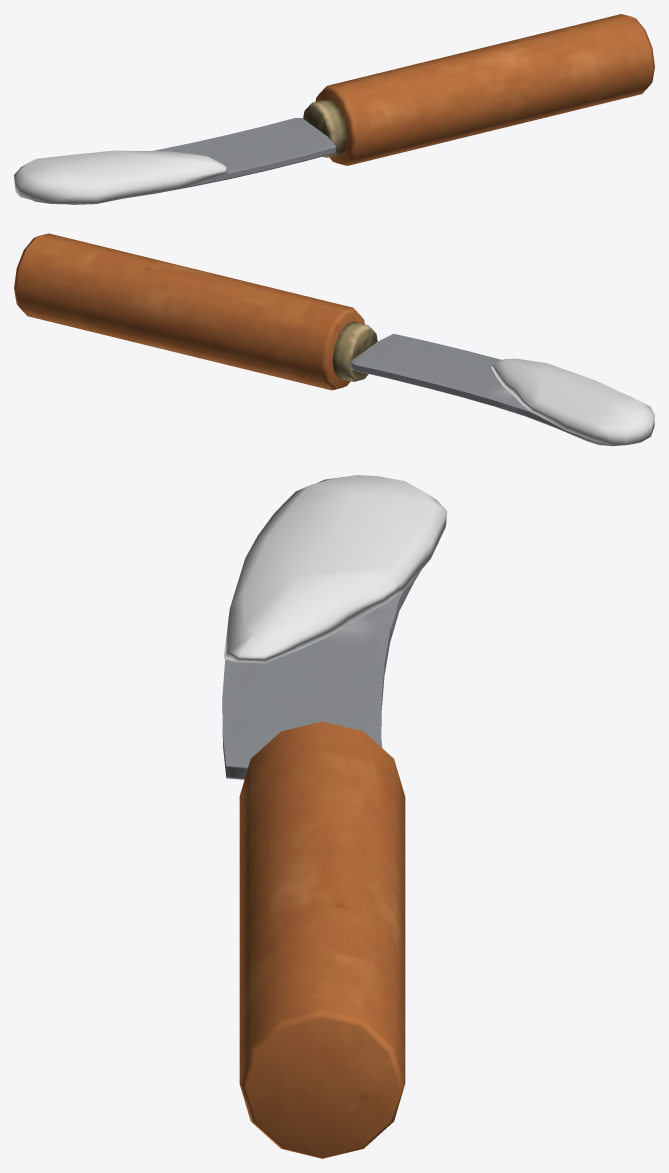
Rendered from pi_knife01_yogurt.gltf.
The picture shows the model from 3 angles, top to bottom: view 1: azimuth 30°, elevation 25°; view 2: azimuth 150°, elevation 25°; view 3: azimuth 270°, elevation 25°; orthographic projection. The views are drawn at different scales.
Parts seen in each view (by area): view 1: um_pi_knife01_yogurt_model_pi_knife01_yogurt_modelShape:pi_k (×2); view 2: um_pi_knife01_yogurt_model_pi_knife01_yogurt_modelShape:pi_k (×2); view 3: um_pi_knife01_yogurt_model_pi_knife01_yogurt_modelShape:pi_k (×2).
Part boxes in pixels (bbox=[...]): um_pi_knife01_yogurt_model_pi_knife01_yogurt_modelShape:pi_k (×2): bbox=[14, 14, 654, 204]; um_pi_knife01_yogurt_model_pi_knife01_yogurt_modelShape:pi_k (×2): bbox=[14, 233, 654, 446]; um_pi_knife01_yogurt_model_pi_knife01_yogurt_modelShape:pi_k (×2): bbox=[222, 475, 447, 1158].
Bounding box in the file's own units: 0.1991 × 0.0235 × 0.0321.
3 materials, 3 textured.
